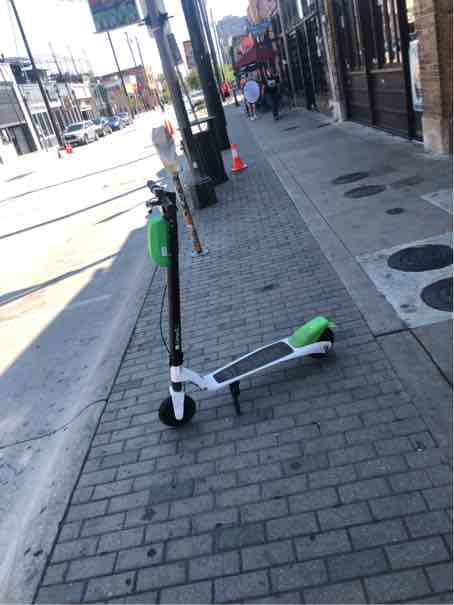scooter: (121, 156, 340, 434)
